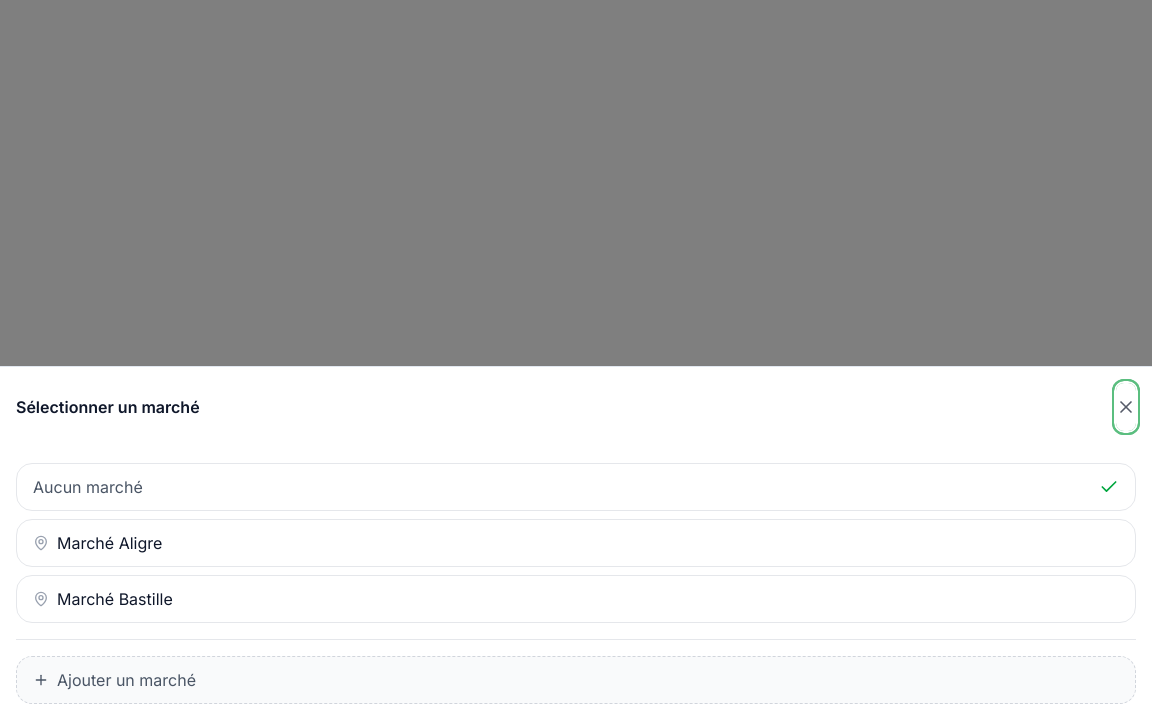
MarketPicker › renders "+ Ajouter un marché" button that reveals the quick-add form
The width and height of the screenshot is (1152, 720).
Check: the field with placeholder "Nom du marché" is not shown
Check: the text "Ajouter un marché" is shown, box [57,668,196,692]
// Click to reveal form
Click the button "Ajouter un marché" at (126, 680), box [16,656,1136,704]
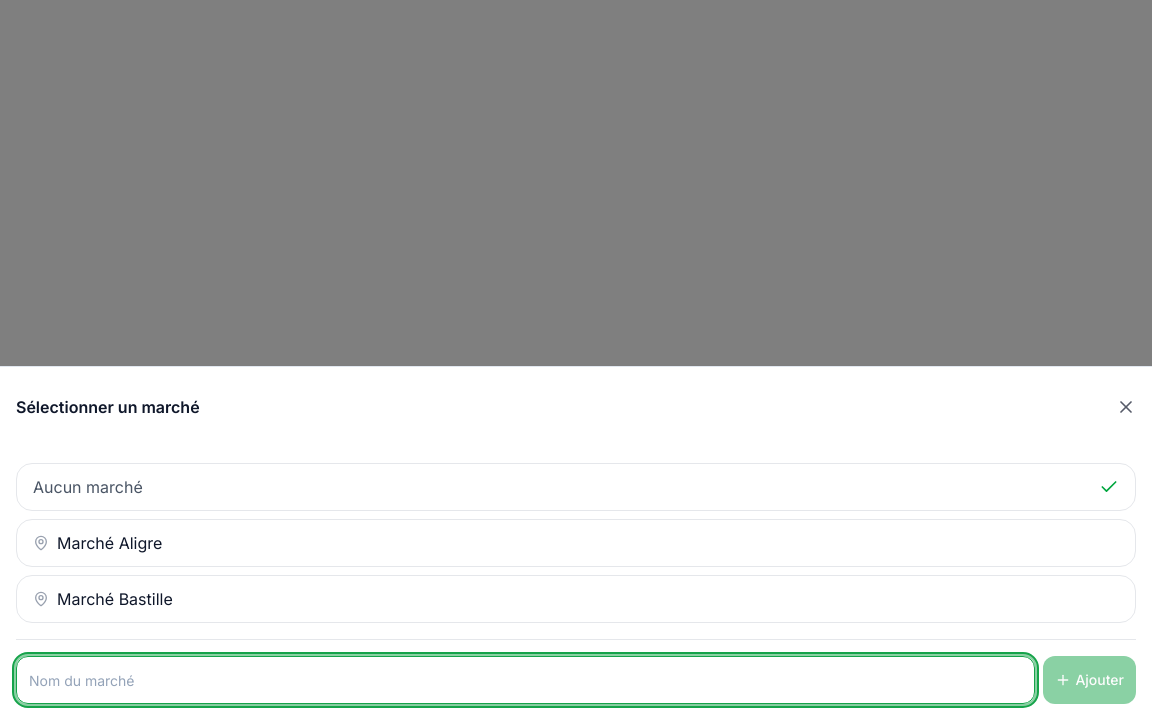
Check: the button "Ajouter" is shown, box [1043,656,1136,704]
Check: the field with placeholder "Nom du marché" is shown, box [16,656,1035,704]
